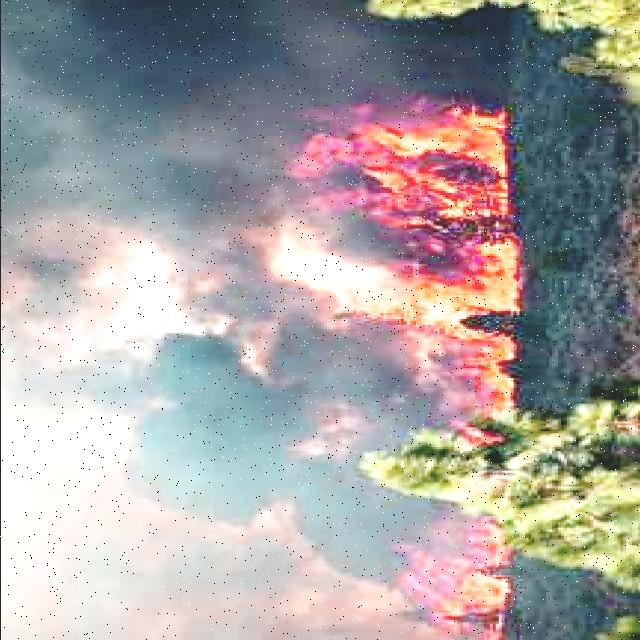api: (269, 96, 530, 461), (384, 513, 519, 640)
asap: (1, 188, 467, 606), (1, 3, 521, 249)
